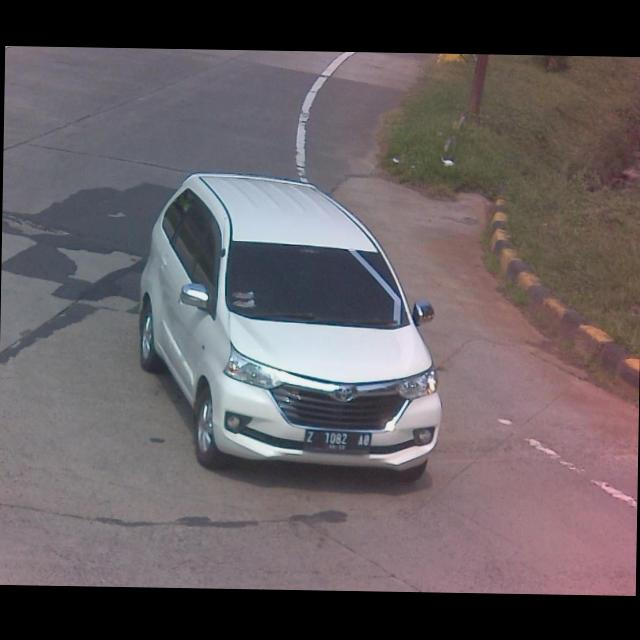plate: (304, 426, 372, 454)
